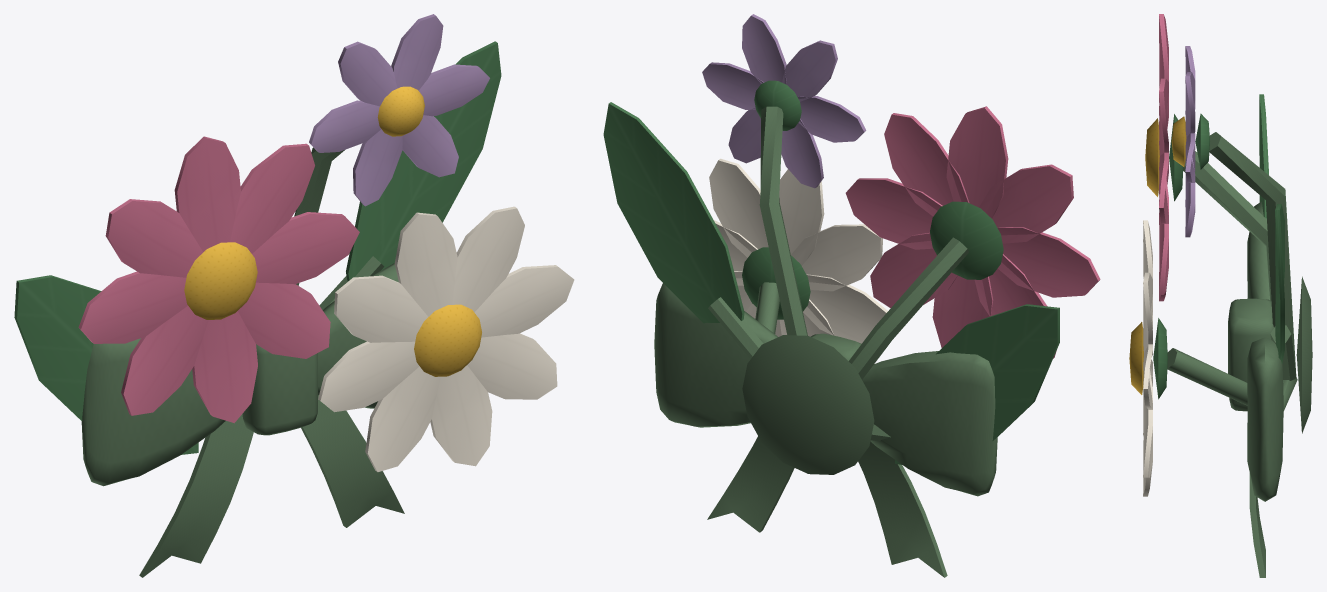
File: KD_FlowerCorsage_Set.fbx
The picture shows the model from 3 angles, left to right: view 1: azimuth 30°, elevation 25°; view 2: azimuth 150°, elevation 25°; view 3: azimuth 270°, elevation 25°; orthographic projection. The views are drawn at different scales.
Visible parts, largest first — view 1: KD_FlowerCorsage_Set; view 2: KD_FlowerCorsage_Set; view 3: KD_FlowerCorsage_Set.
Boxes of the visible parts, <box> form: KD_FlowerCorsage_Set: <box>14,14,574,577</box>; KD_FlowerCorsage_Set: <box>603,14,1100,577</box>; KD_FlowerCorsage_Set: <box>1129,14,1312,577</box>.
Size of the model in its own units: 0.1018 by 0.1041 by 0.0347.
Materials: 1 (1 with a texture image).
